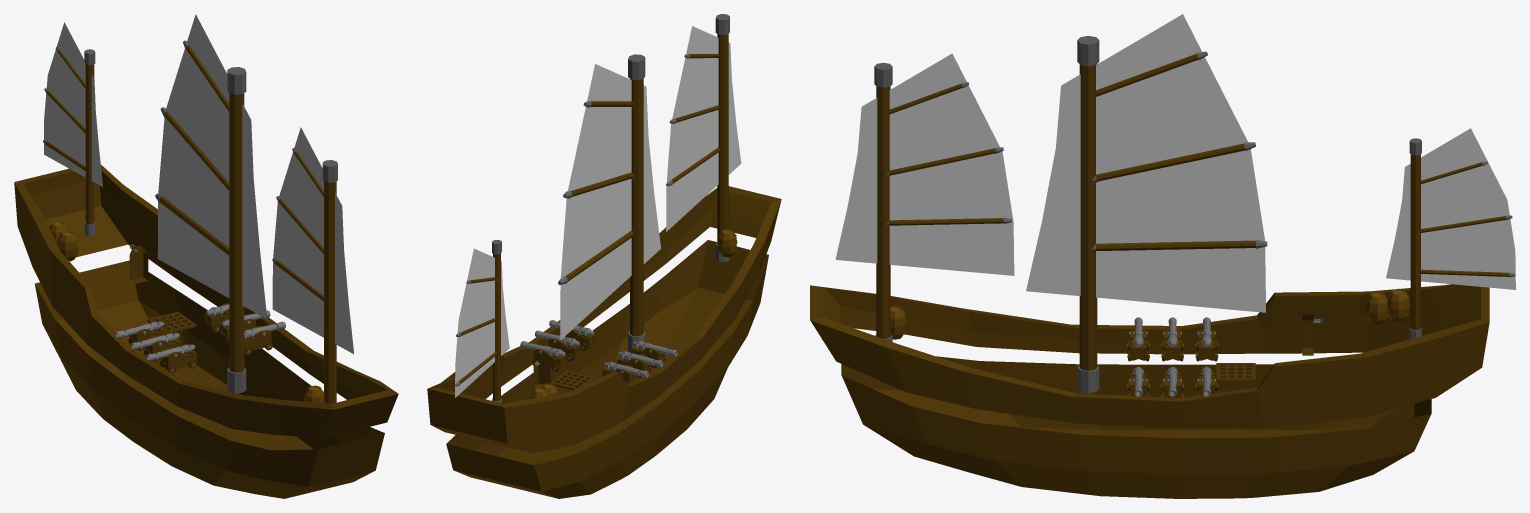
Rendered from Junk_Mod.fbx.
3 renders of one model, left to right at view 1: azimuth 30°, elevation 25°; view 2: azimuth 150°, elevation 25°; view 3: azimuth 270°, elevation 25°, orthographic. The views are drawn at different scales.
Parts seen in each view (by area): view 1: Plane.026, Plane.027, Cylinder.028, Plane.028, Plane.029, Plane.015; view 2: Plane.026, Plane.027, Cylinder.028, Plane.028, Plane.029, Plane.015, Barrel.005; view 3: Plane.026, Plane.027, Plane.028, Cylinder.028, Plane.029, Plane.015.
Boxes of the visible parts, x1,y1,x2,y2 form: Plane.026: (14, 164, 398, 498); Plane.027: (157, 14, 267, 318); Cylinder.028: (43, 40, 337, 403); Plane.028: (272, 127, 354, 354); Plane.029: (44, 22, 102, 186); Plane.015: (115, 303, 285, 373); Plane.026: (427, 186, 781, 498); Plane.027: (560, 64, 660, 340); Cylinder.028: (454, 14, 729, 403); Plane.028: (666, 26, 741, 231); Plane.029: (455, 248, 509, 397); Plane.015: (520, 320, 677, 383); Barrel.005: (717, 229, 737, 257); Plane.026: (810, 284, 1489, 498); Plane.027: (1026, 14, 1265, 312); Plane.028: (835, 53, 1014, 275); Cylinder.028: (874, 36, 1515, 393); Plane.029: (1386, 128, 1515, 289); Plane.015: (1127, 317, 1218, 397).
Bounding box in the file's own units: 1273 × 3539 × 5026.
